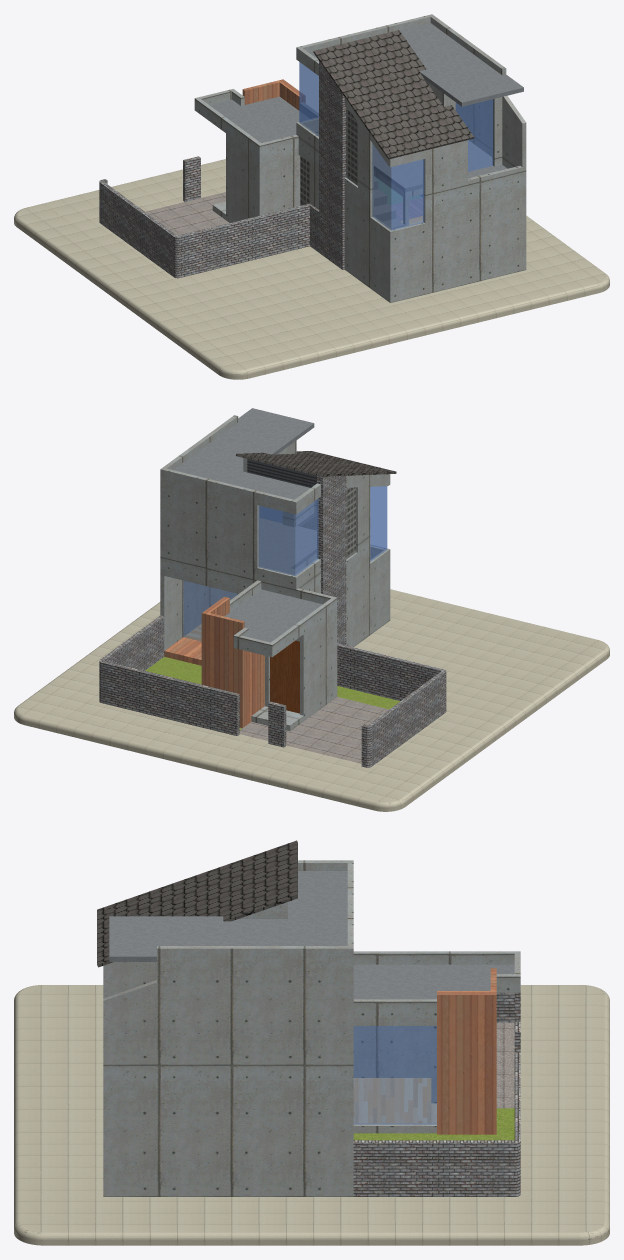
The model's file is house.glb.
The picture shows the model from 3 angles, top to bottom: view 1: azimuth 30°, elevation 25°; view 2: azimuth 150°, elevation 25°; view 3: azimuth 270°, elevation 25°; orthographic projection. The views are drawn at different scales.
Parts seen in each view (by area): view 1: root; view 2: root; view 3: root.
Part boxes in pixels (x1=…): root: x1=14, y1=14, x2=609, y2=379; root: x1=14, y1=408, x2=609, y2=811; root: x1=14, y1=840, x2=609, y2=1245.
Bounding box in the file's own units: 10 × 5.12 × 10.
Materials: 13 (12 with a texture image).
